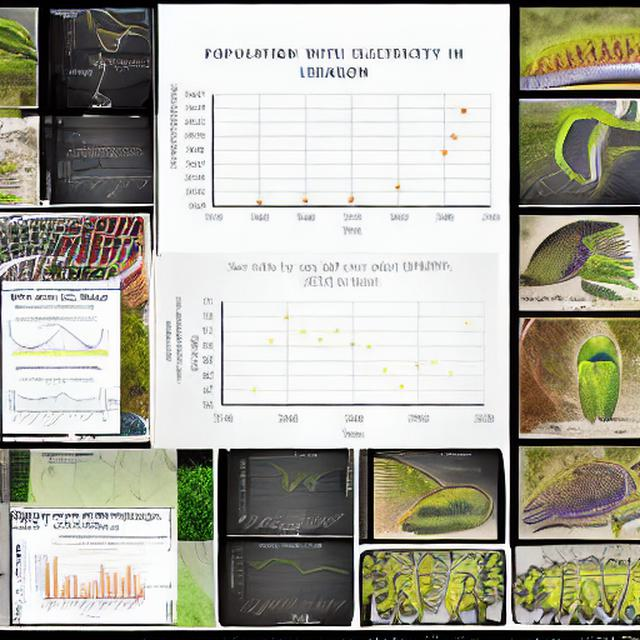Graph: (159, 37, 508, 247), (184, 255, 499, 445), (32, 539, 148, 622), (227, 542, 353, 617), (55, 144, 154, 203), (2, 376, 98, 432)
